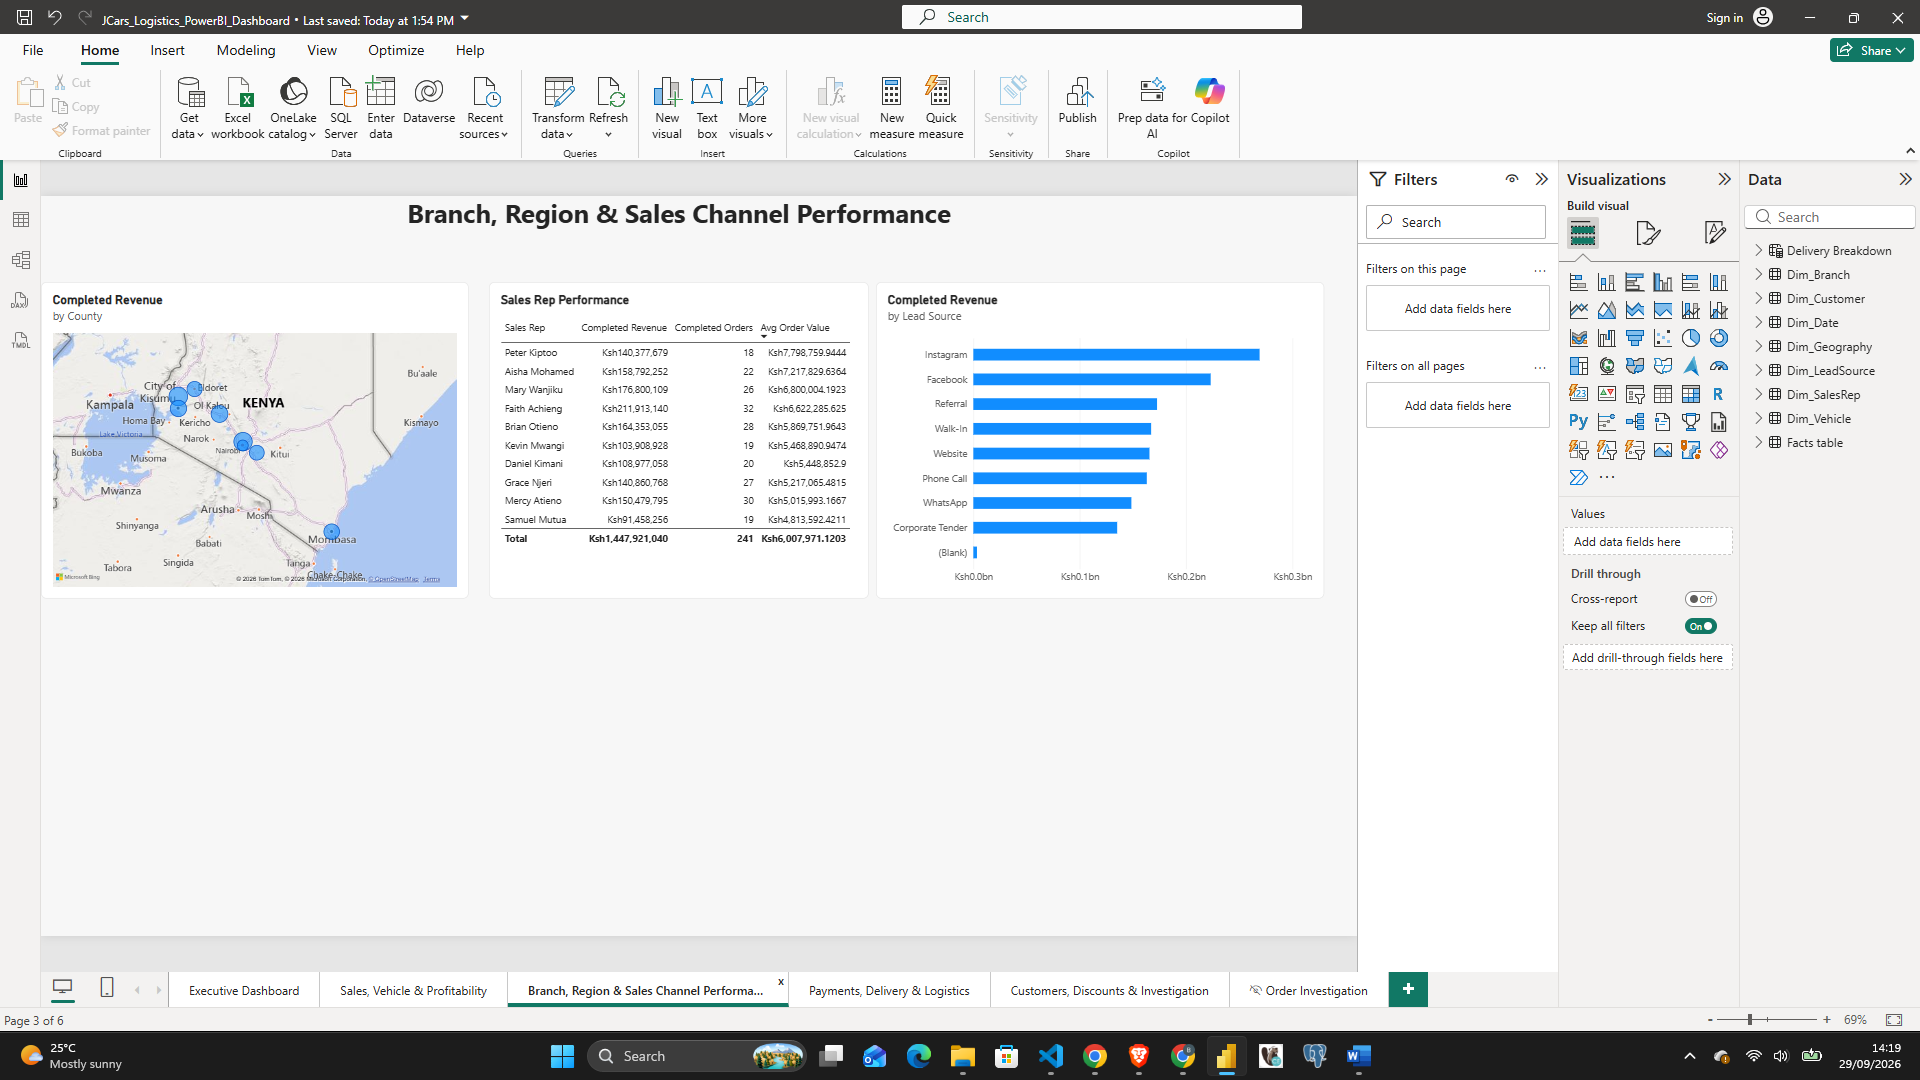

Layout of this report page (visuals, bound fields, positions):
{"tool":"powerbi","page":{"name":"Branch, Region & Sales Channel Performance","canvas":[1920,1080],"ordinal":2},"visuals":[{"type":"map","fields":{"Category":["Dim_Geography.County"],"Size":["Facts table.Completed Revenue"]},"box":[0,125.5,624.4,462.5],"z":0},{"type":"tableEx","title":"Sales Rep Performance","fields":{"Values":["Dim_SalesRep.Sales Rep","Facts table.Completed Revenue","Facts table.Completed Orders","Facts table.Avg Order Value"]},"box":[653.6,125.5,554.4,462.5],"z":1000},{"type":"barChart","fields":{"Category":["Dim_LeadSource.Lead Source"],"Y":["Facts table.Completed Revenue"]},"box":[1218.2,125.5,653.6,462.5],"z":2000},{"type":"textbox","box":[377.9,0,1105.9,84.6],"z":2001}]}

Visuals, with their boxes on the page's 1920x1080 design canvas (x1, y1, x2, y2). These are canvas units, not pixel positions in the 1920x1080 screenshot, which may show the page scaled, cropped or inside an application window:
map - Dim_Geography.County x Facts table.Completed Revenue: crop(0, 126, 624, 588)
"Sales Rep Performance" tableEx: crop(654, 126, 1208, 588)
barChart - Dim_LeadSource.Lead Source x Facts table.Completed Revenue: crop(1218, 126, 1872, 588)
textbox: crop(378, 0, 1484, 85)
